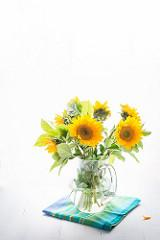sunflower: (115, 116, 143, 152), (68, 118, 104, 145), (91, 100, 112, 119), (120, 102, 140, 120)
